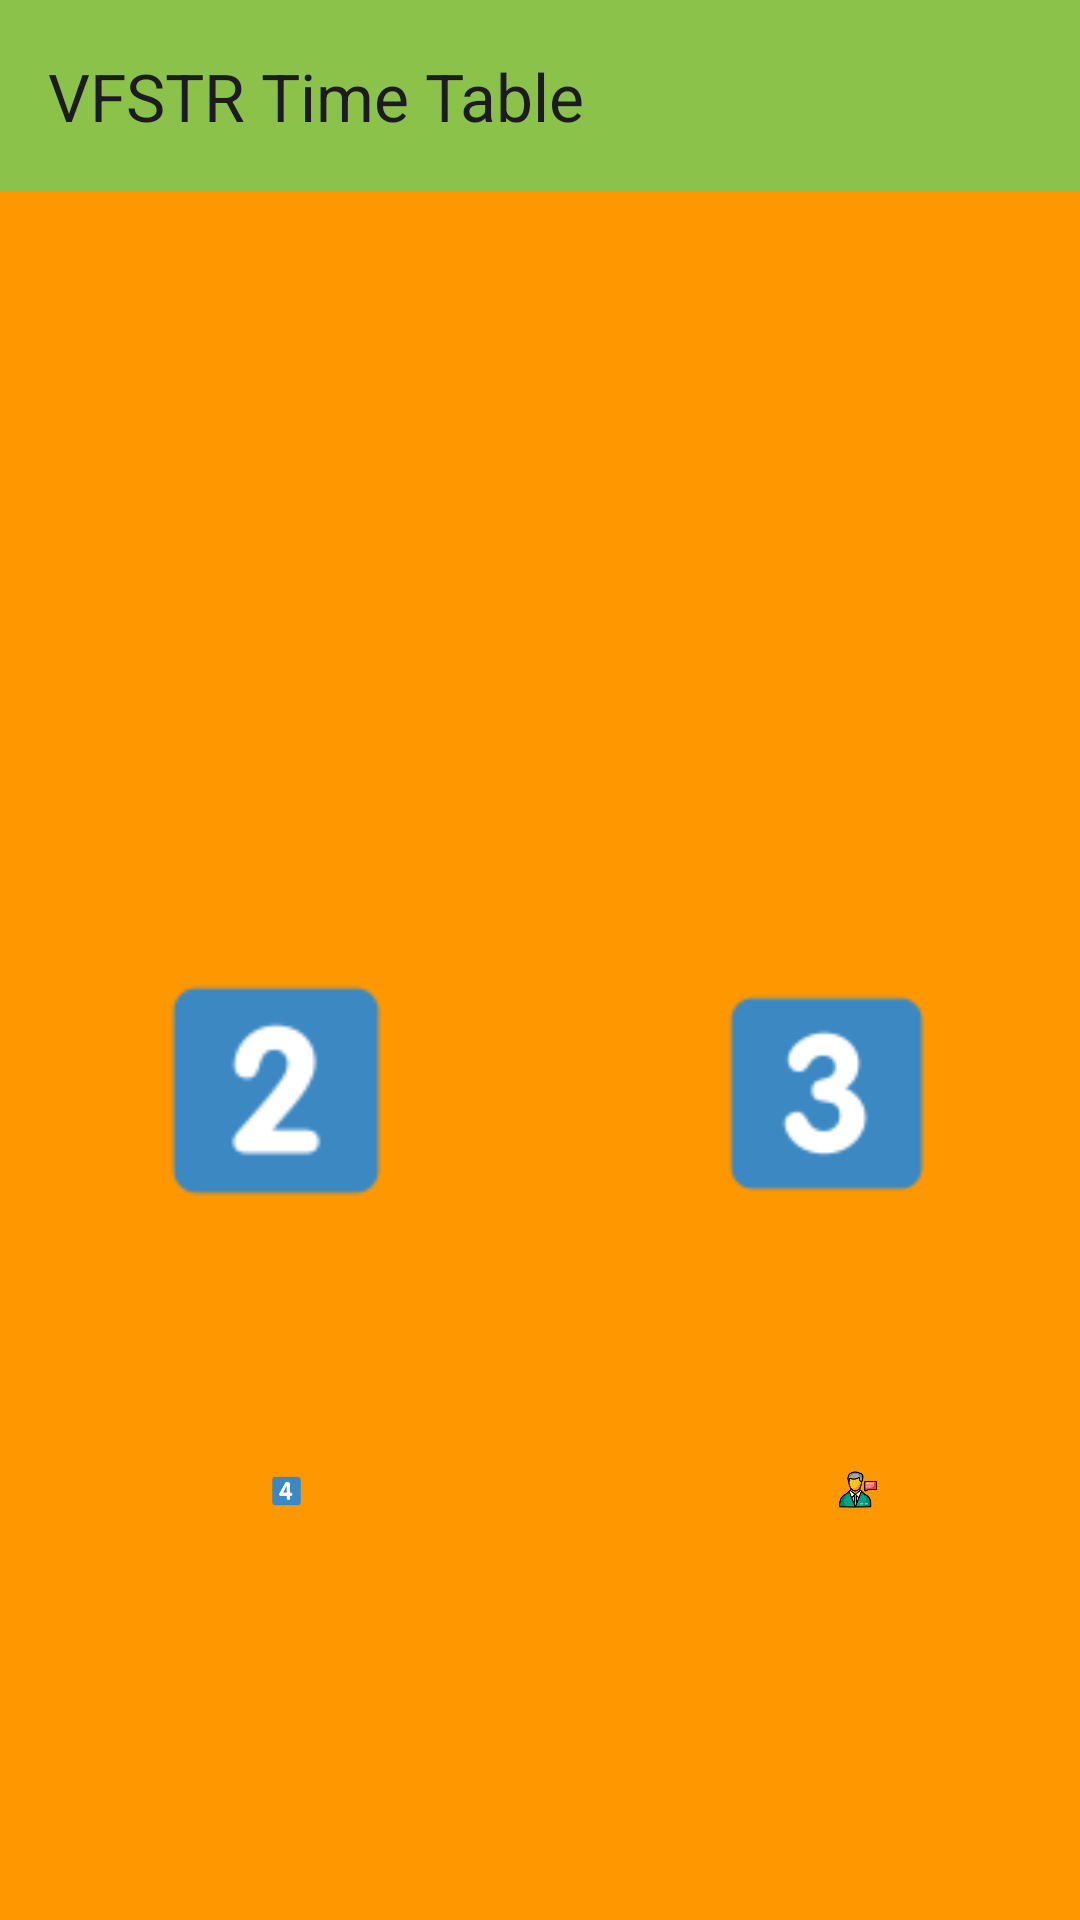

Icons on this 1080 × 1920 Android screen, each with its box as (x1, y1, x2, y2):
professor: (839, 1471, 877, 1508)
